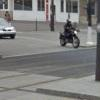Crosswalk: (4, 61, 65, 100)
